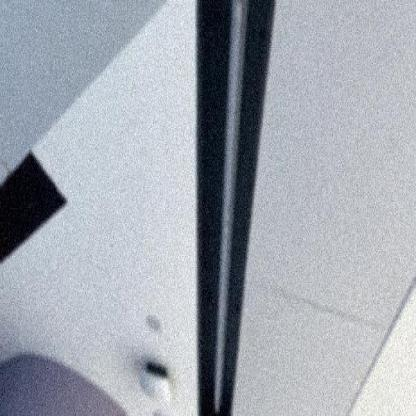light_off: (206, 4, 259, 408)
